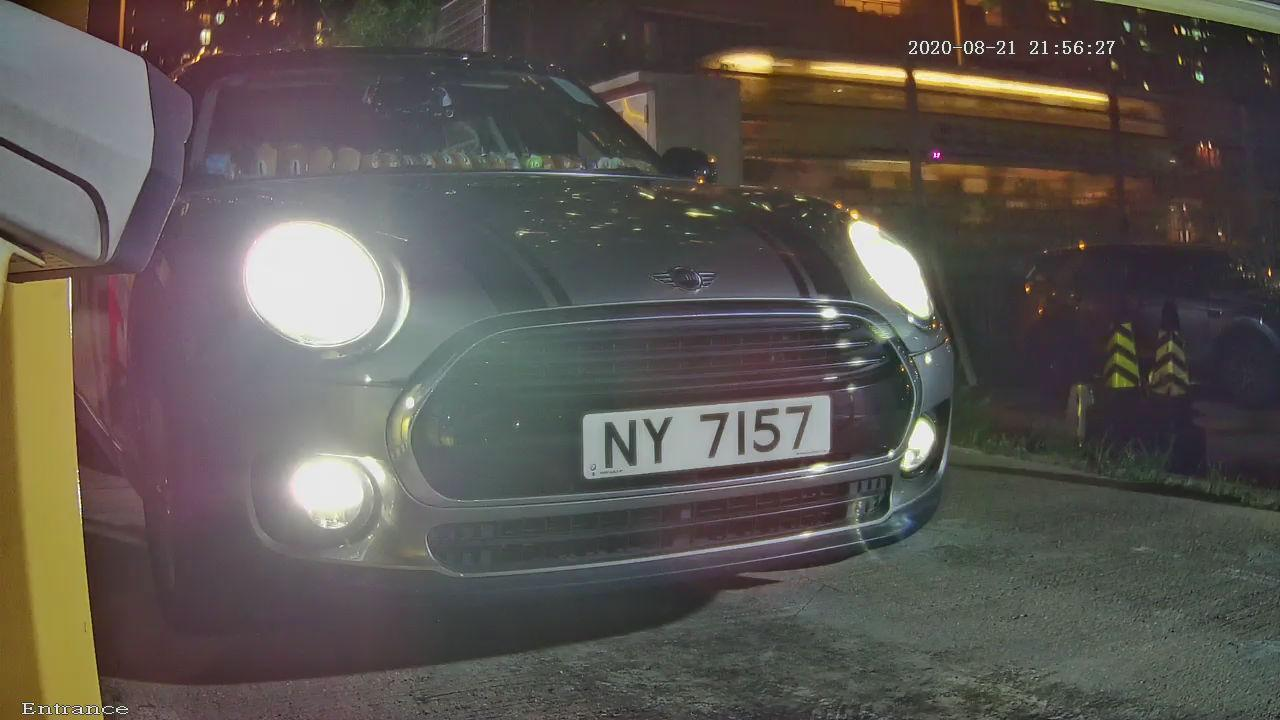Car: (29, 17, 1001, 647)
License Plate: (555, 396, 841, 483)
